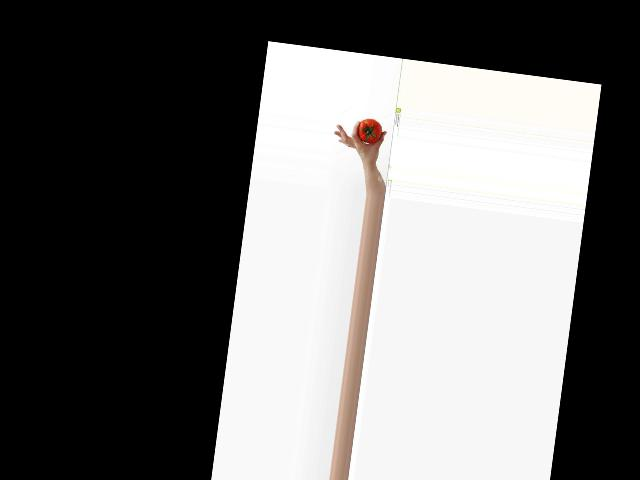tomato: (356, 117, 383, 145)
